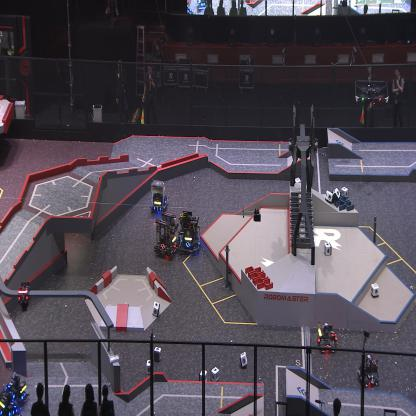car: (152, 209, 180, 259), (178, 208, 204, 254), (3, 370, 31, 407), (356, 353, 380, 388), (150, 177, 170, 215), (317, 321, 338, 354), (0, 390, 22, 416)
